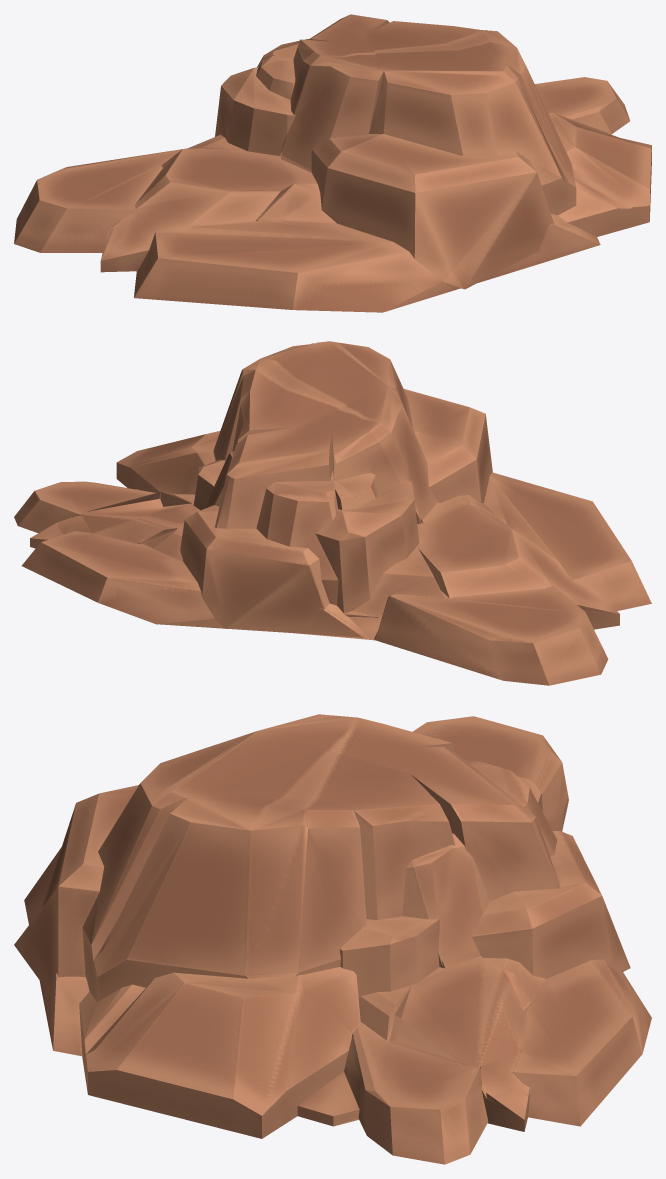
The model's file is midle_rock_04.glb.
The picture shows the model from 3 angles, top to bottom: view 1: azimuth 30°, elevation 25°; view 2: azimuth 150°, elevation 25°; view 3: azimuth 270°, elevation 25°; orthographic projection. The views are drawn at different scales.
Visible parts, largest first — view 1: Cube.010_Midle_rock_2_0; view 2: Cube.010_Midle_rock_2_0; view 3: Cube.010_Midle_rock_2_0.
Part boxes in pixels (left/top/right/bottom): Cube.010_Midle_rock_2_0: left=14, top=14, right=651, bottom=312; Cube.010_Midle_rock_2_0: left=14, top=341, right=651, bottom=685; Cube.010_Midle_rock_2_0: left=14, top=714, right=651, bottom=1164.
Size of the model in its own units: 11.09 by 2.86 by 7.26.
Materials: 1 (1 with a texture image).
